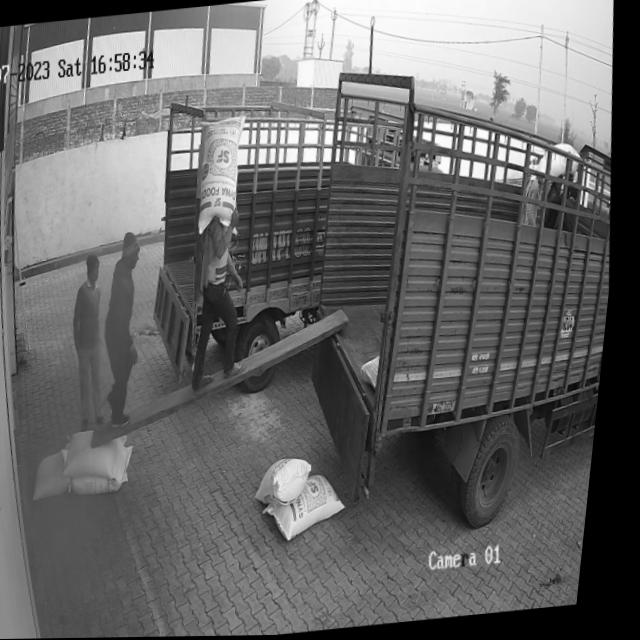sack: (194, 115, 258, 235), (268, 471, 361, 543), (69, 427, 140, 482), (76, 444, 145, 496), (262, 456, 324, 510), (39, 449, 85, 499)
